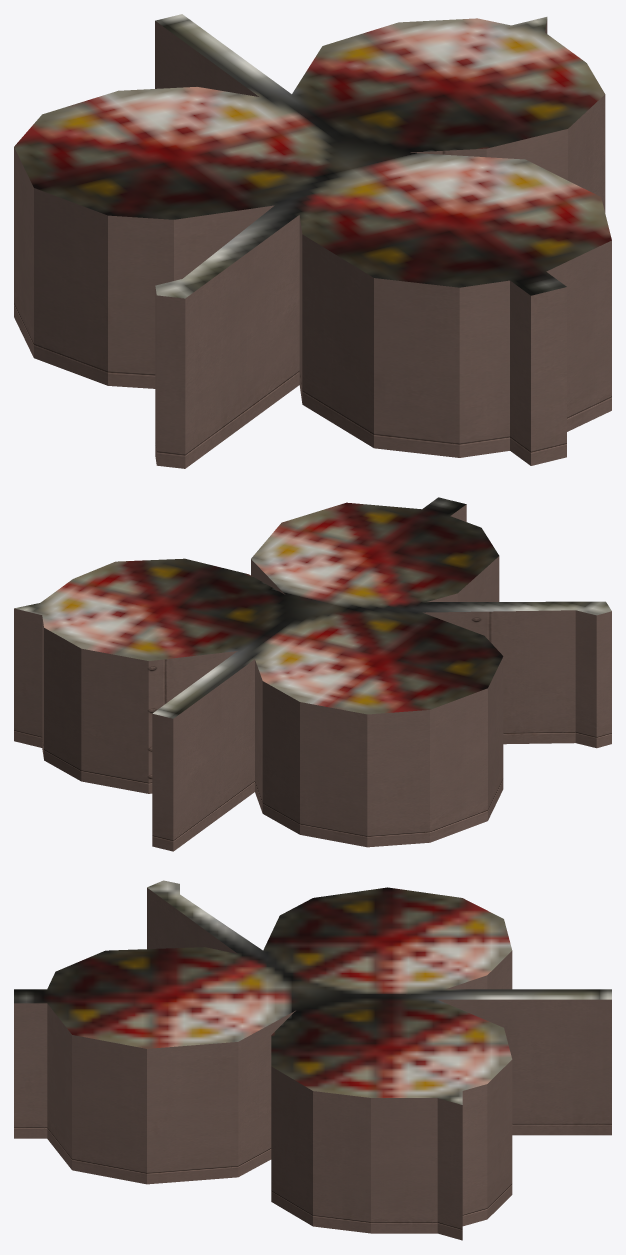
The model's file is fuel_tank_heavy_27.glb.
3 renders of one model, top to bottom at view 1: azimuth 30°, elevation 25°; view 2: azimuth 150°, elevation 25°; view 3: azimuth 270°, elevation 25°, orthographic. The views are drawn at different scales.
Parts seen in each view (by area): view 1: buildings/saxarba/fuel_tanks/fuel_tank_heavy_27; view 2: buildings/saxarba/fuel_tanks/fuel_tank_heavy_27; view 3: buildings/saxarba/fuel_tanks/fuel_tank_heavy_27.
Boxes of the visible parts, x1=… form: buildings/saxarba/fuel_tanks/fuel_tank_heavy_27: x1=14, y1=14, x2=611, y2=468; buildings/saxarba/fuel_tanks/fuel_tank_heavy_27: x1=14, y1=497, x2=611, y2=851; buildings/saxarba/fuel_tanks/fuel_tank_heavy_27: x1=14, y1=880, x2=611, y2=1240.
Size of the model in its own units: 64 by 18 by 72.
